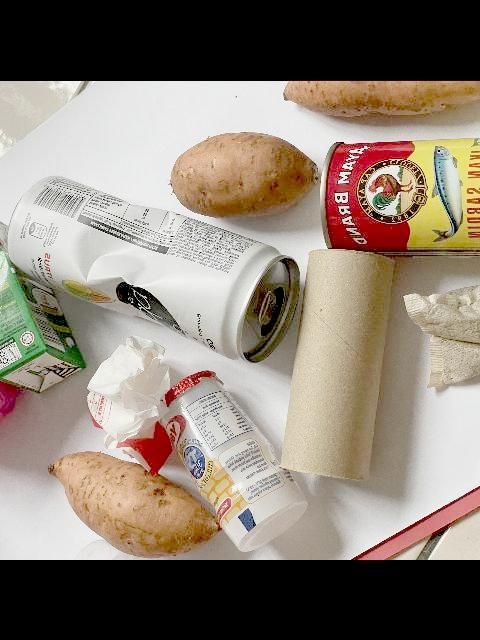drinkcan: (6, 173, 302, 363)
drinkpack: (0, 210, 87, 394)
foodcan: (318, 133, 480, 258)
paperbag: (86, 334, 172, 476)
plasticbag: (0, 281, 50, 450)
plasticbottle: (156, 369, 310, 553)
sweetpotato: (46, 450, 224, 560), (169, 129, 321, 219), (281, 80, 480, 117)
teabag: (402, 266, 480, 387)
tissueroll: (278, 247, 395, 481)
